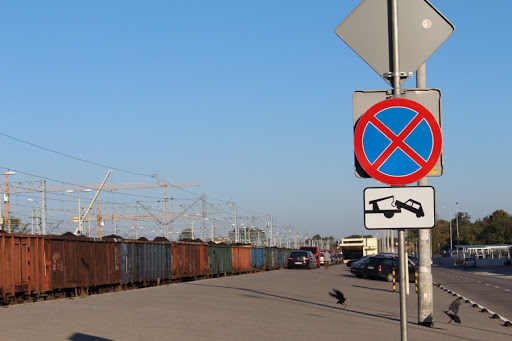no_stopping_sign: (354, 98, 442, 186)
